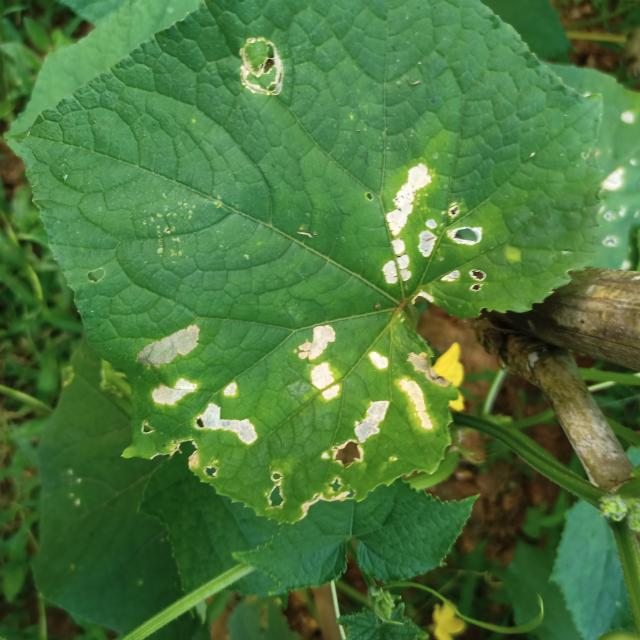disease_cucumber: (363, 158, 494, 308), (353, 338, 450, 458), (135, 319, 200, 411), (291, 318, 346, 403), (202, 380, 262, 449), (322, 436, 367, 475)
